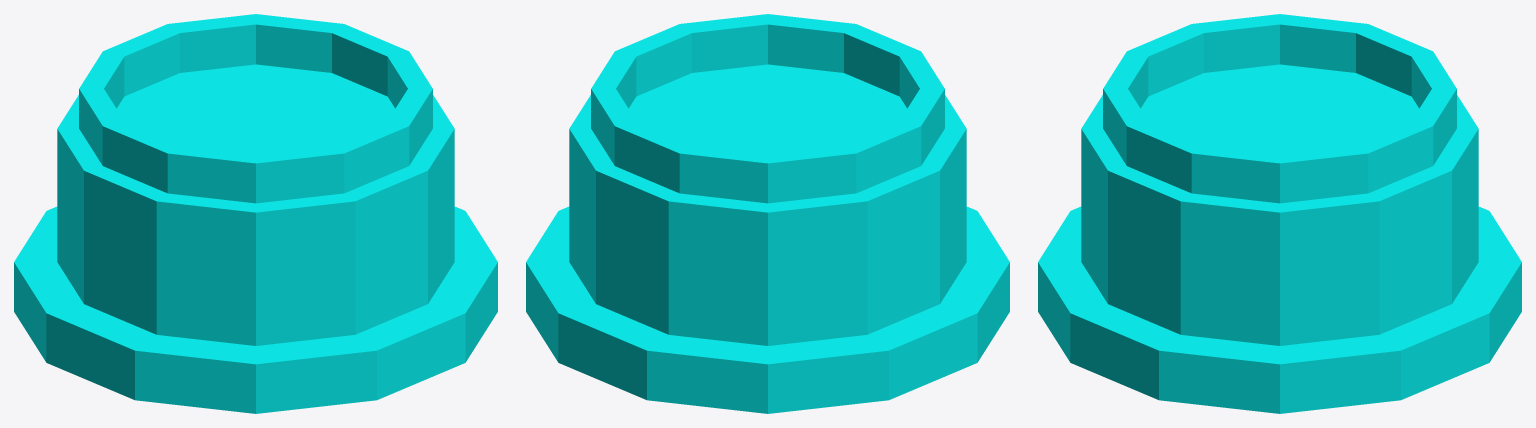
Rendered from ennchuBaoundingBox.glb.
3 views of the same model, side by side, from view 1: azimuth 30°, elevation 25°; view 2: azimuth 150°, elevation 25°; view 3: azimuth 270°, elevation 25° (orthographic).
Parts seen in each view (by area): view 1: Colishion_C; view 2: Colishion_C; view 3: Colishion_C.
Boxes of the visible parts, <box> form: Colishion_C: <box>14,14,497,413</box>; Colishion_C: <box>526,14,1009,413</box>; Colishion_C: <box>1038,14,1521,413</box>.
Size of the model in its own units: 2.57 by 1.31 by 2.57.
